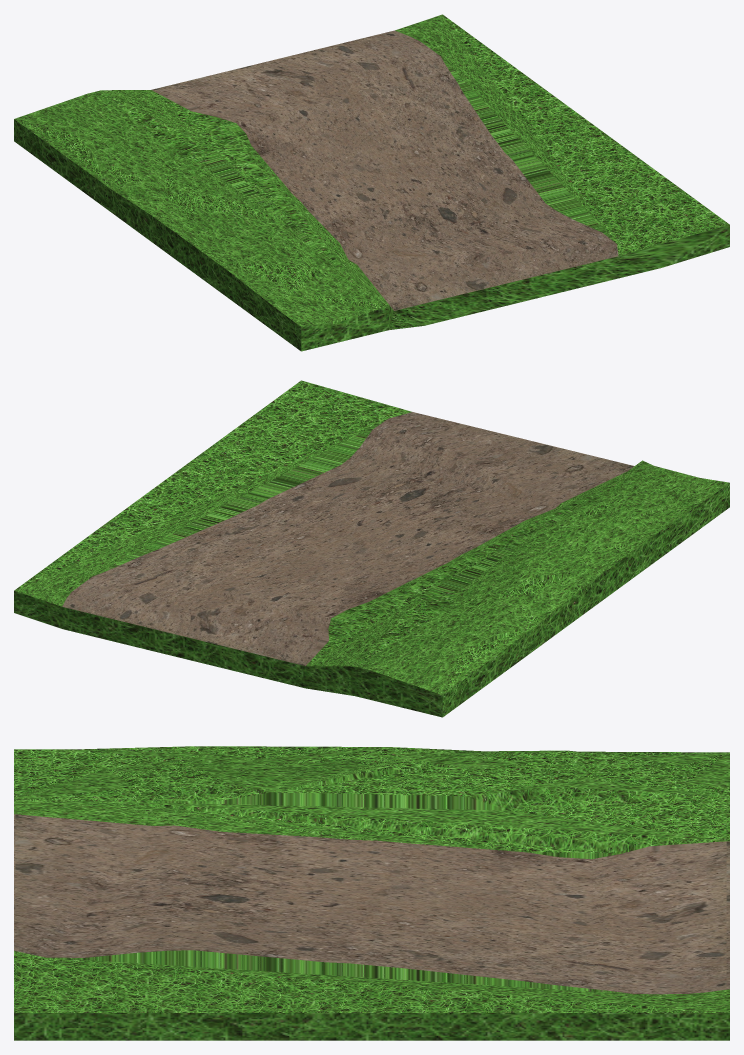
The model's file is newground4.fbx.
3 views of the same model, one above another, from view 1: azimuth 30°, elevation 25°; view 2: azimuth 150°, elevation 25°; view 3: azimuth 270°, elevation 25° (orthographic). The views are drawn at different scales.
Visible parts, largest first — view 1: pCube3; view 2: pCube3; view 3: pCube3.
Boxes of the visible parts, x1=… form: pCube3: x1=14, y1=14, x2=729, y2=351; pCube3: x1=14, y1=380, x2=729, y2=717; pCube3: x1=14, y1=746, x2=729, y2=1040.
Bounding box in the file's own units: 20.17 × 1.85 × 23.41.
Materials: 2 (2 with a texture image).
